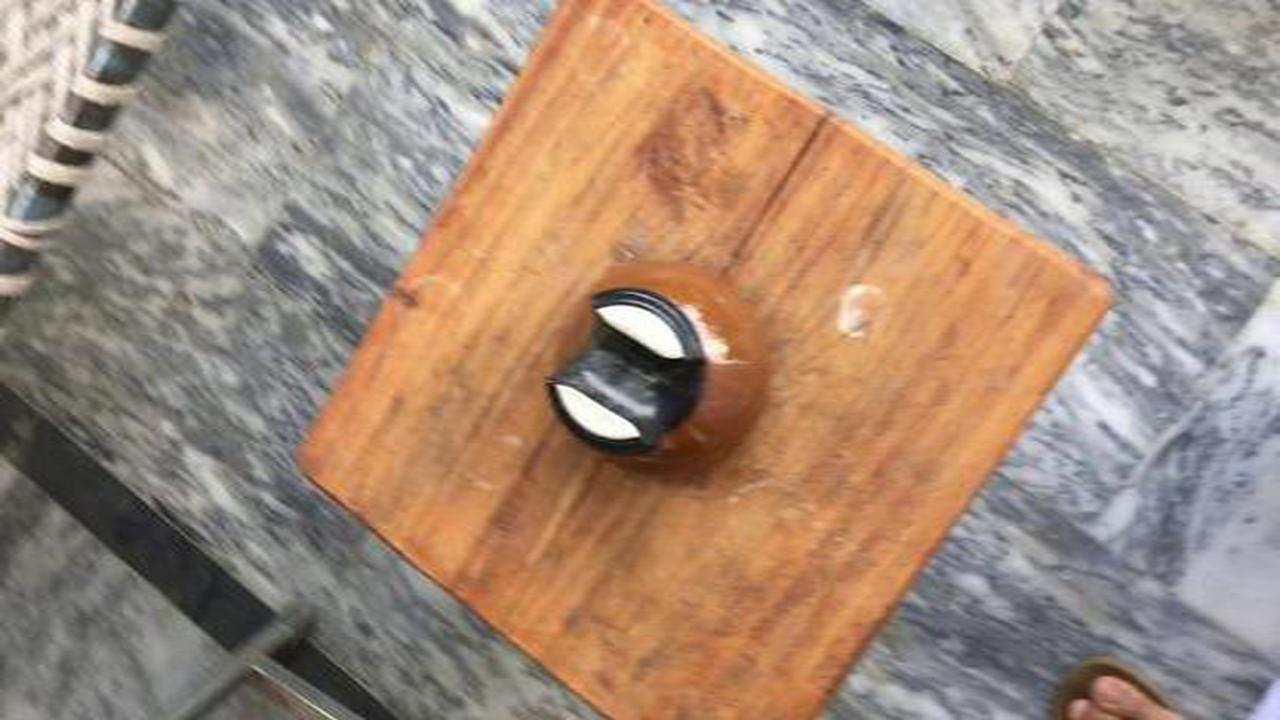insulator_pin: (511, 246, 794, 496)
